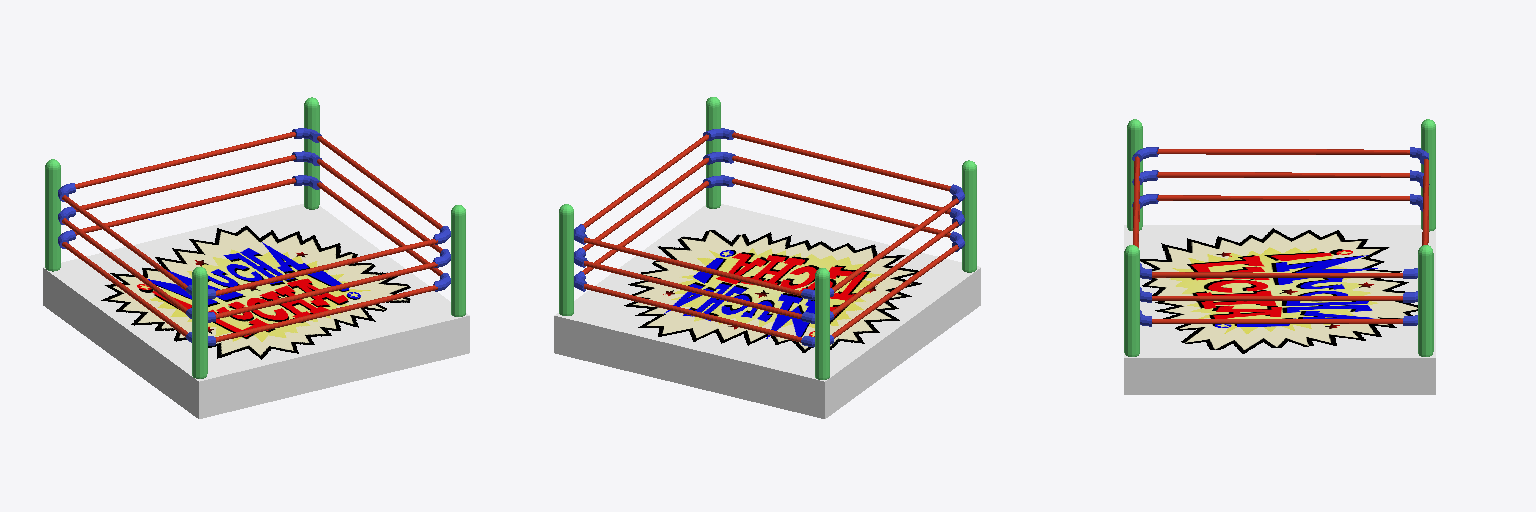
3 renders of one model, left to right at view 1: azimuth 30°, elevation 25°; view 2: azimuth 150°, elevation 25°; view 3: azimuth 270°, elevation 25°, orthographic.
Visible parts, largest first — view 1: Box001; view 2: Box001; view 3: Box001.
Boxes of the visible parts, <box> form: Box001: <box>43,97,469,418</box>; Box001: <box>554,97,980,418</box>; Box001: <box>1124,119,1435,394</box>.
Bounding box in the file's own units: 60.05 × 31 × 60.
5 materials, 5 textured.